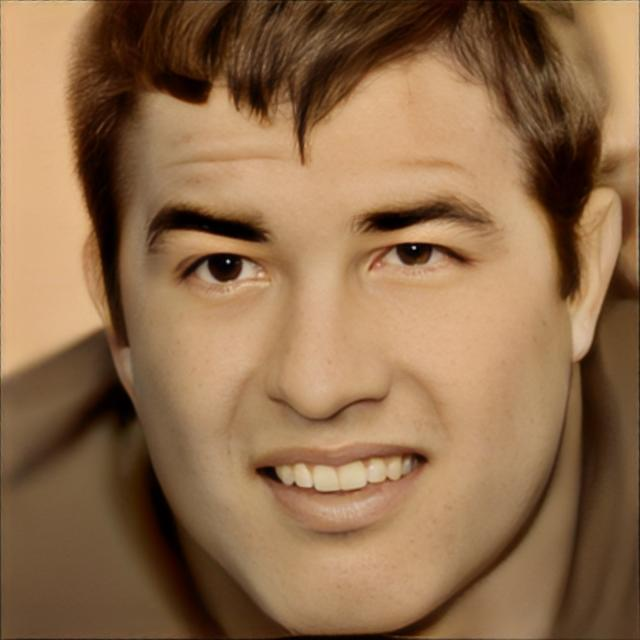disgust: (113, 3, 572, 636)
